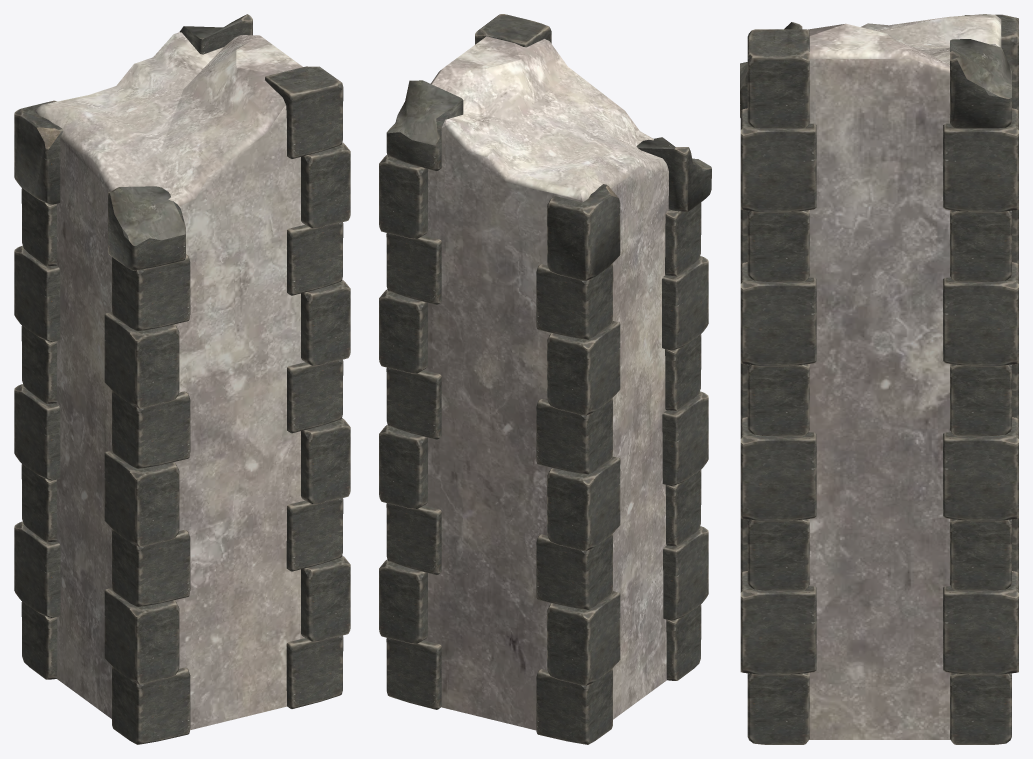
3 views of the same model, side by side, from view 1: azimuth 30°, elevation 25°; view 2: azimuth 150°, elevation 25°; view 3: azimuth 270°, elevation 25° (orthographic). The views are drawn at different scales.
Visible parts, largest first — view 1: SM_Human_Ruins_Column_Dmg_01_LOD0; view 2: SM_Human_Ruins_Column_Dmg_01_LOD0; view 3: SM_Human_Ruins_Column_Dmg_01_LOD0.
Part boxes in pixels (box(x1,y1,x2,y2)): SM_Human_Ruins_Column_Dmg_01_LOD0: box(14, 14, 350, 744); SM_Human_Ruins_Column_Dmg_01_LOD0: box(379, 14, 711, 744); SM_Human_Ruins_Column_Dmg_01_LOD0: box(740, 14, 1018, 744).
Bounding box in the file's own units: 0.7439 × 2.01 × 0.7364.
2 materials, 2 textured.
